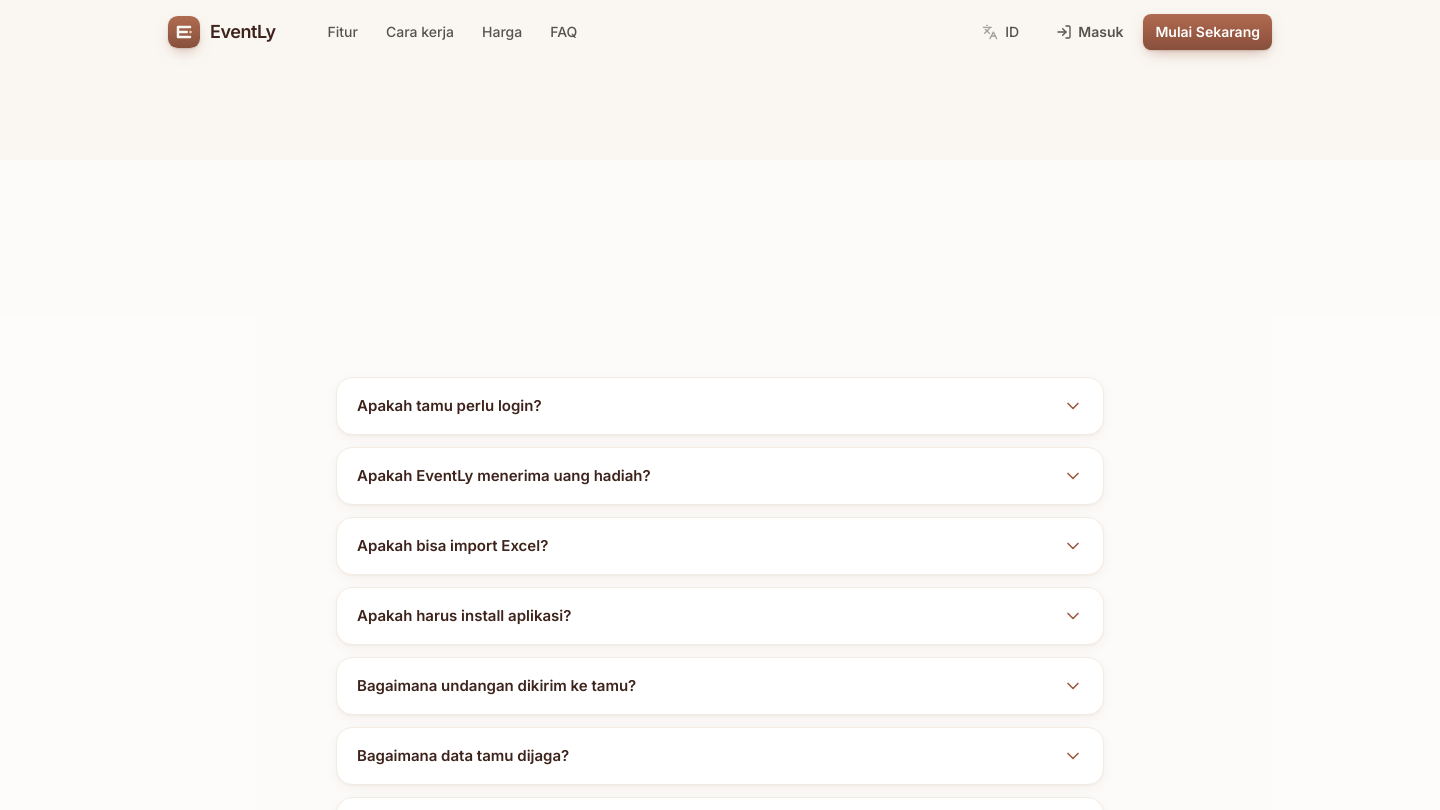
Test: landing page › answers the FAQ with native disclosure widgets
(page scrolled)
Click the heading "Apakah tamu perlu login?": (449, 405) top-left (357, 396), bottom-right (1083, 416)
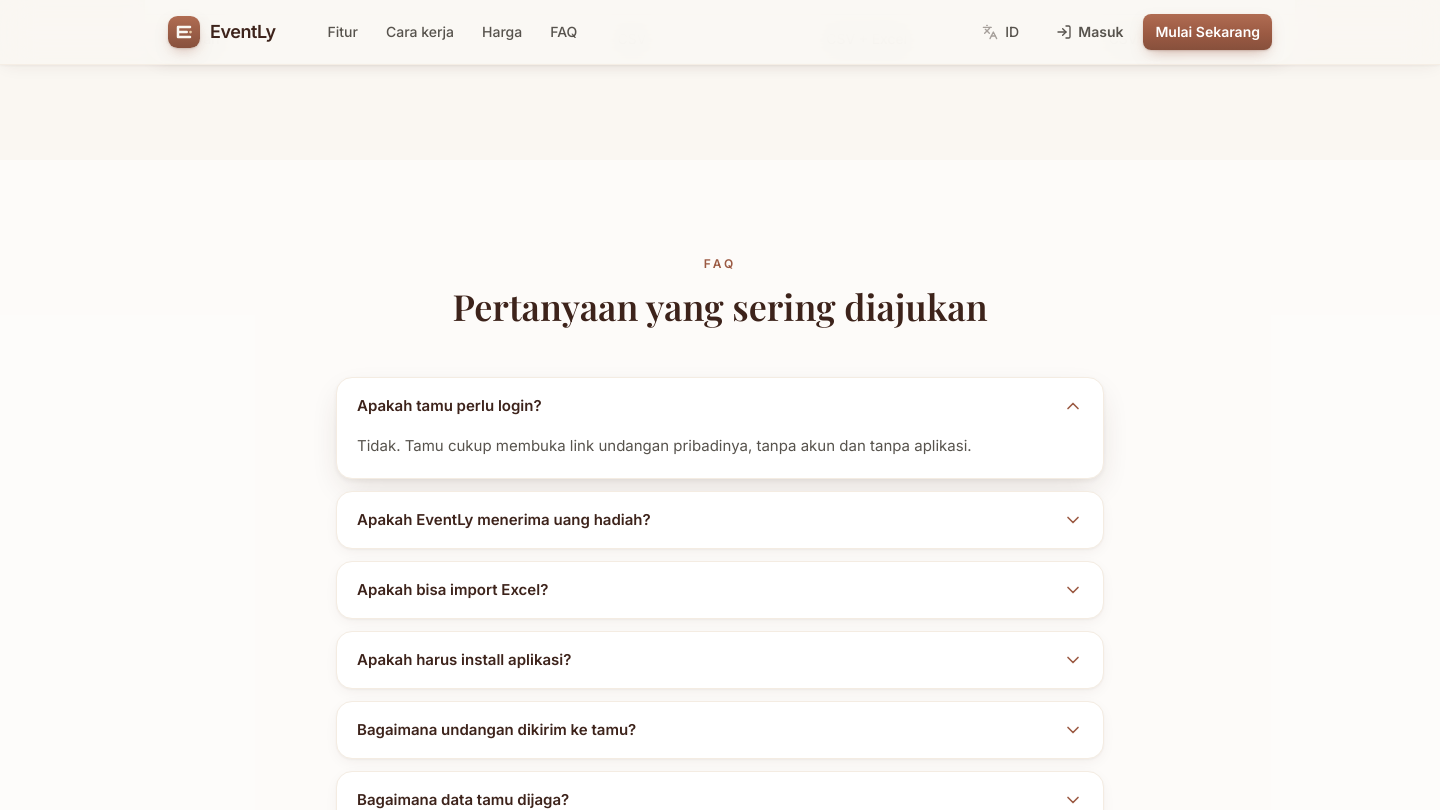
Expected: the text "Tamu cukup membuka link undangan" is shown, top-left (357, 436), bottom-right (972, 454)
